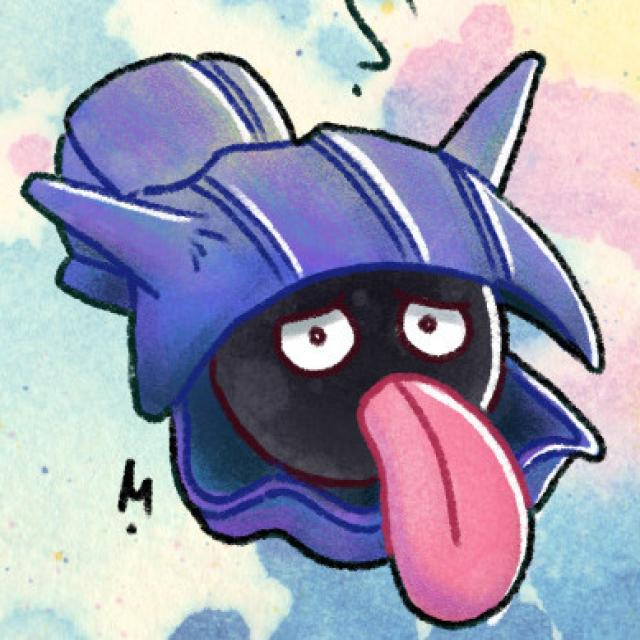Shellder: (44, 48, 588, 609)
